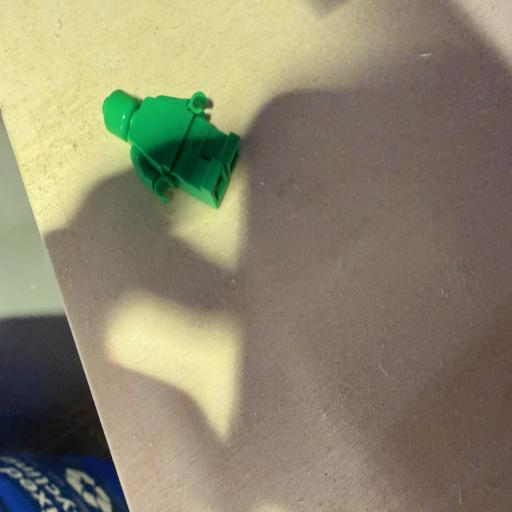Lego-Dude: (102, 90, 240, 209)
